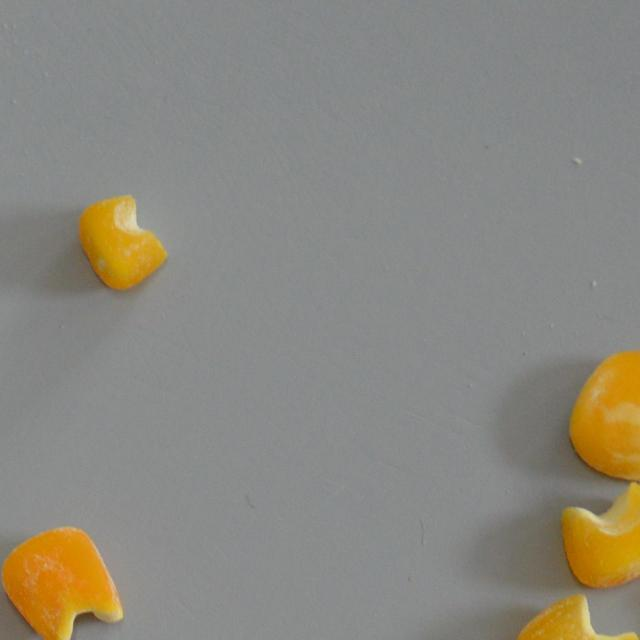pelicula: (0, 526, 123, 640), (566, 348, 640, 480), (557, 480, 640, 588), (76, 192, 166, 290), (512, 594, 640, 640)
